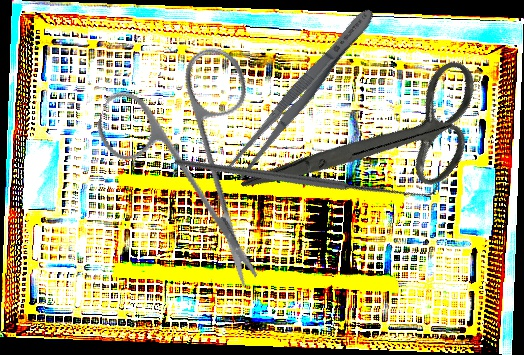Dressing Forceps: (223, 2, 382, 183)
Hook Surgical: (173, 48, 439, 301)
Iris Scissors: (240, 3, 509, 283), (60, 16, 329, 293)
